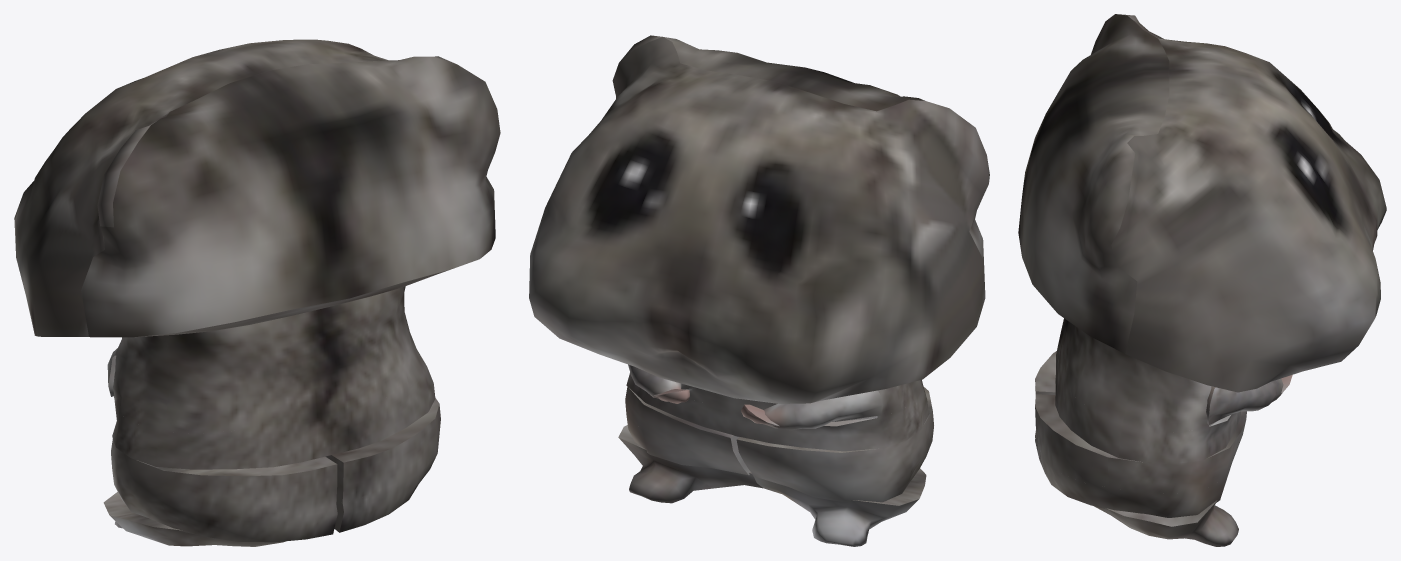
Rendered from cute_hamster.glb.
3 views of the same model, side by side, from view 1: azimuth 30°, elevation 25°; view 2: azimuth 150°, elevation 25°; view 3: azimuth 270°, elevation 25° (orthographic). The views are drawn at different scales.
Visible parts, largest first — view 1: cute hamster; view 2: cute hamster; view 3: cute hamster.
Part boxes in pixels (left/top/right/bottom): cute hamster: left=14, top=39, right=500, bottom=546; cute hamster: left=529, top=35, right=989, bottom=546; cute hamster: left=1018, top=14, right=1386, bottom=546.
Size of the model in its own units: 4.16 by 4.74 by 3.31.
1 material, 1 textured.
